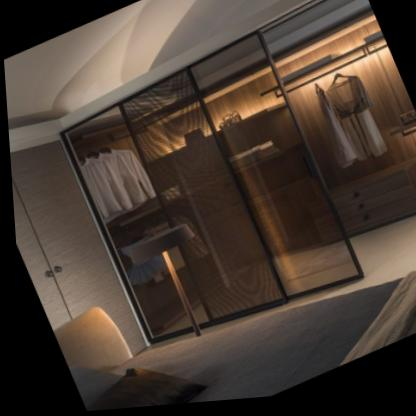Bed: (49, 276, 416, 412)
Transparent Closet: (56, 0, 416, 348)
